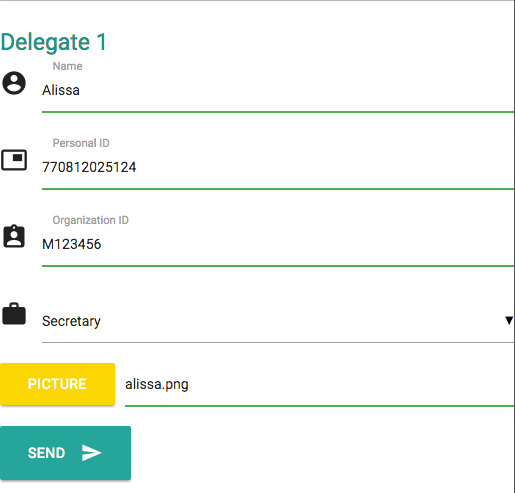_form_: (1, 44, 515, 485)
button: (1, 424, 134, 482), (1, 359, 118, 409)
field_line: (38, 299, 515, 346), (39, 74, 513, 117), (39, 230, 515, 271), (38, 155, 514, 192), (124, 368, 514, 411)
field_line_with_label: (37, 57, 515, 120), (38, 214, 515, 274), (35, 136, 515, 195)
